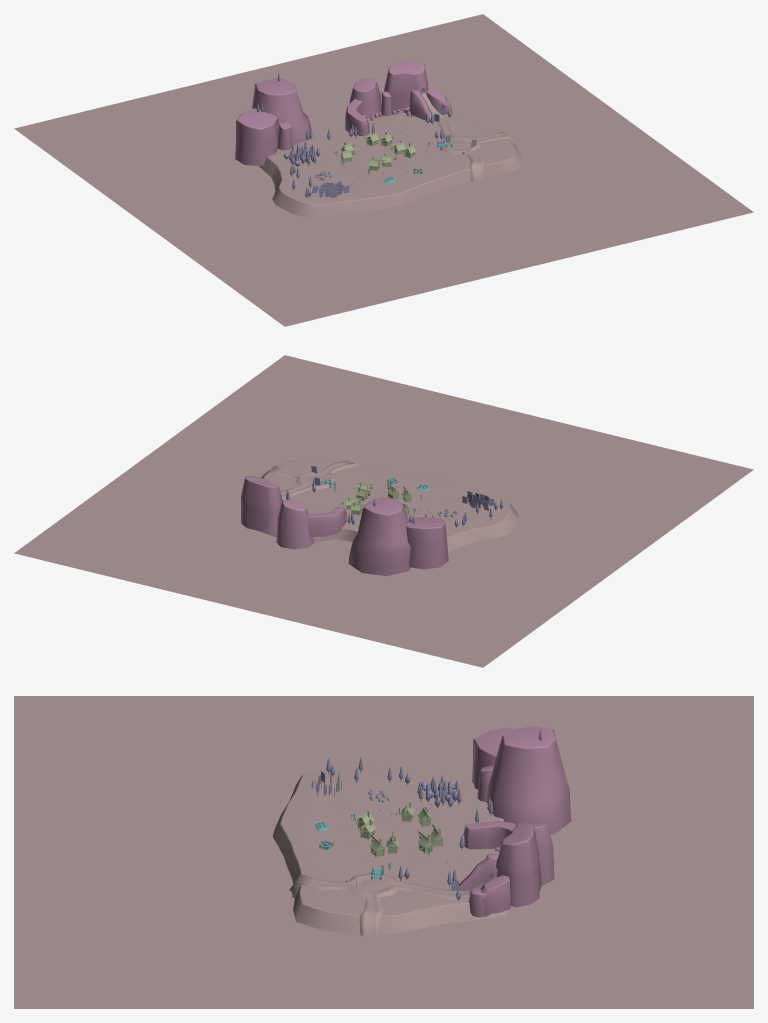
Rendered from SM_island.fbx.
3 views of the same model, one above another, from view 1: azimuth 30°, elevation 25°; view 2: azimuth 150°, elevation 25°; view 3: azimuth 270°, elevation 25° (orthographic). The views are drawn at different scales.
Parts seen in each view (by area): view 1: water, base, mountains, rivers, trees; view 2: water, mountains, base, rivers; view 3: water, base, mountains, rivers, les, trees.
Boxes of the visible parts, x1,y1,x2,y2 form: water: (14,14,753,326); base: (259,111,522,218); mountains: (235,61,452,165); rivers: (421,93,517,181); trees: (256,73,451,198); water: (14,355,753,667); mountains: (241,476,448,576); base: (262,456,518,552); rivers: (261,460,358,499); water: (14,696,753,1008); base: (272,766,511,934); mountains: (459,726,571,917); rivers: (289,868,497,936); les: (417,775,461,807); trees: (326,729,542,900).
Size of the model in its own units: 43.56 by 6.48 by 43.56.
